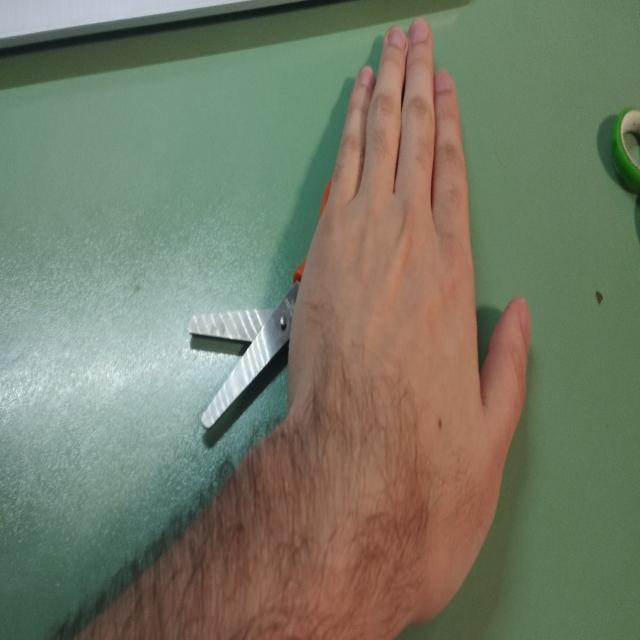tesoura: (181, 158, 438, 438)
